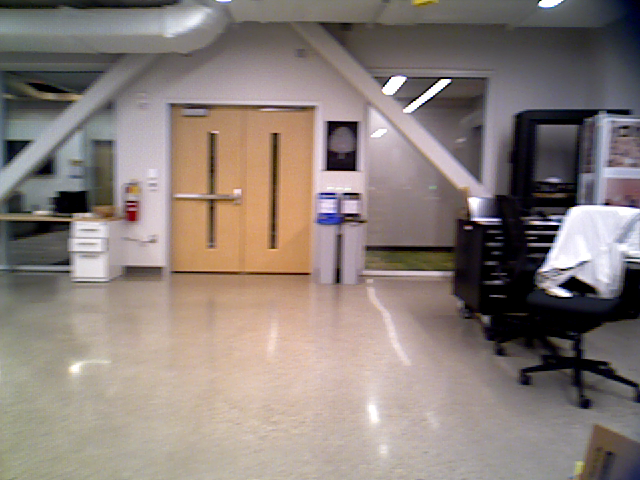painting1: (318, 121, 361, 172)
